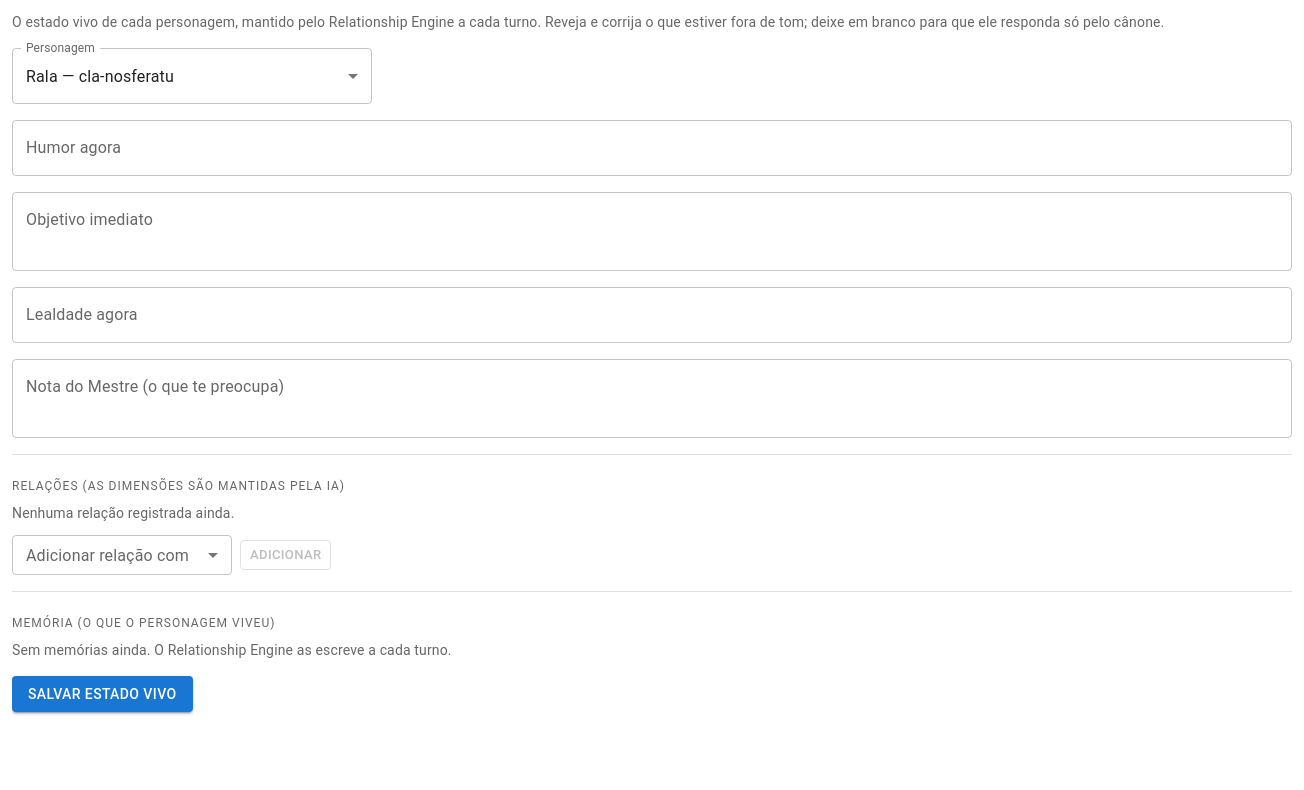
Scenario: AdminLivingTab › mostra a memória e as relações que o Relationship Engine gravaria
Click the dropdown named "Personagem" at (100, 76), box [26, 66, 174, 86]
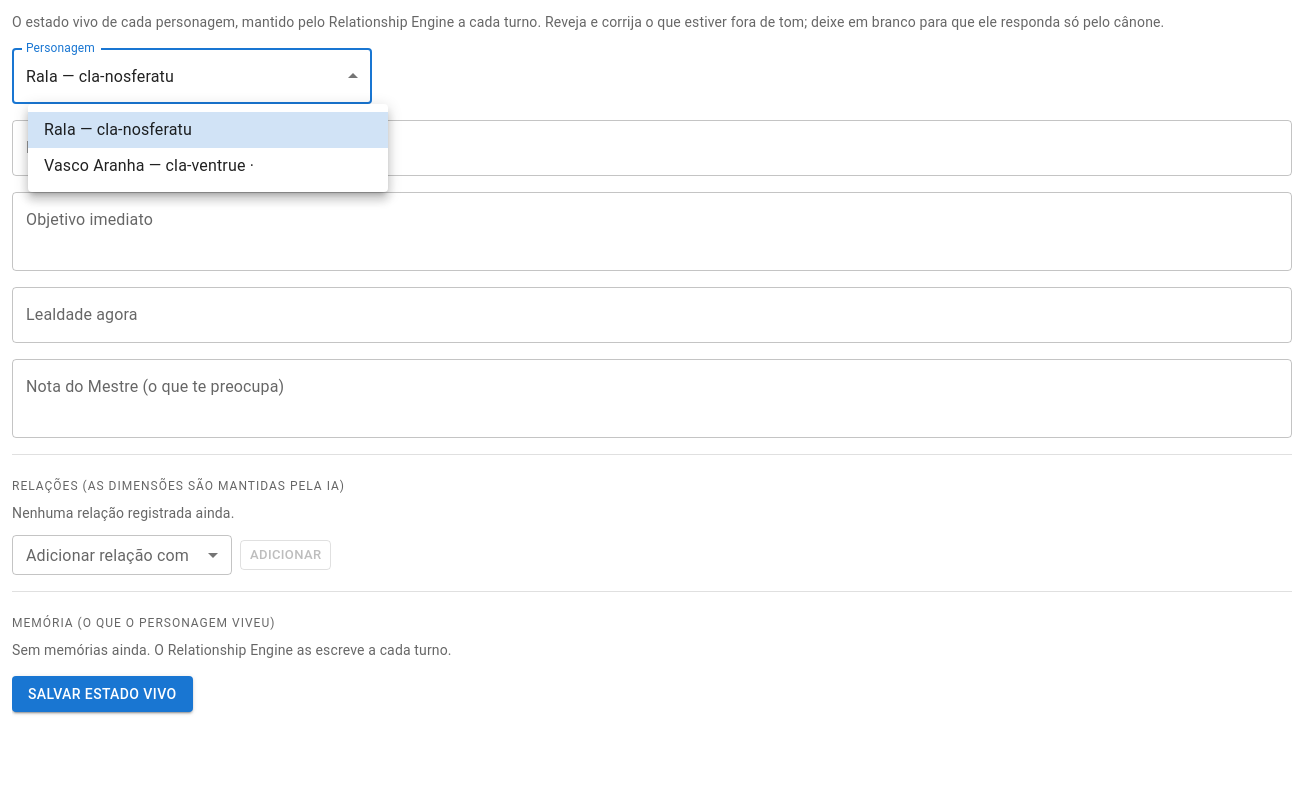
Click the option "Vasco Aranha — cla-ventrue ·" at (149, 166), box [44, 156, 254, 175]
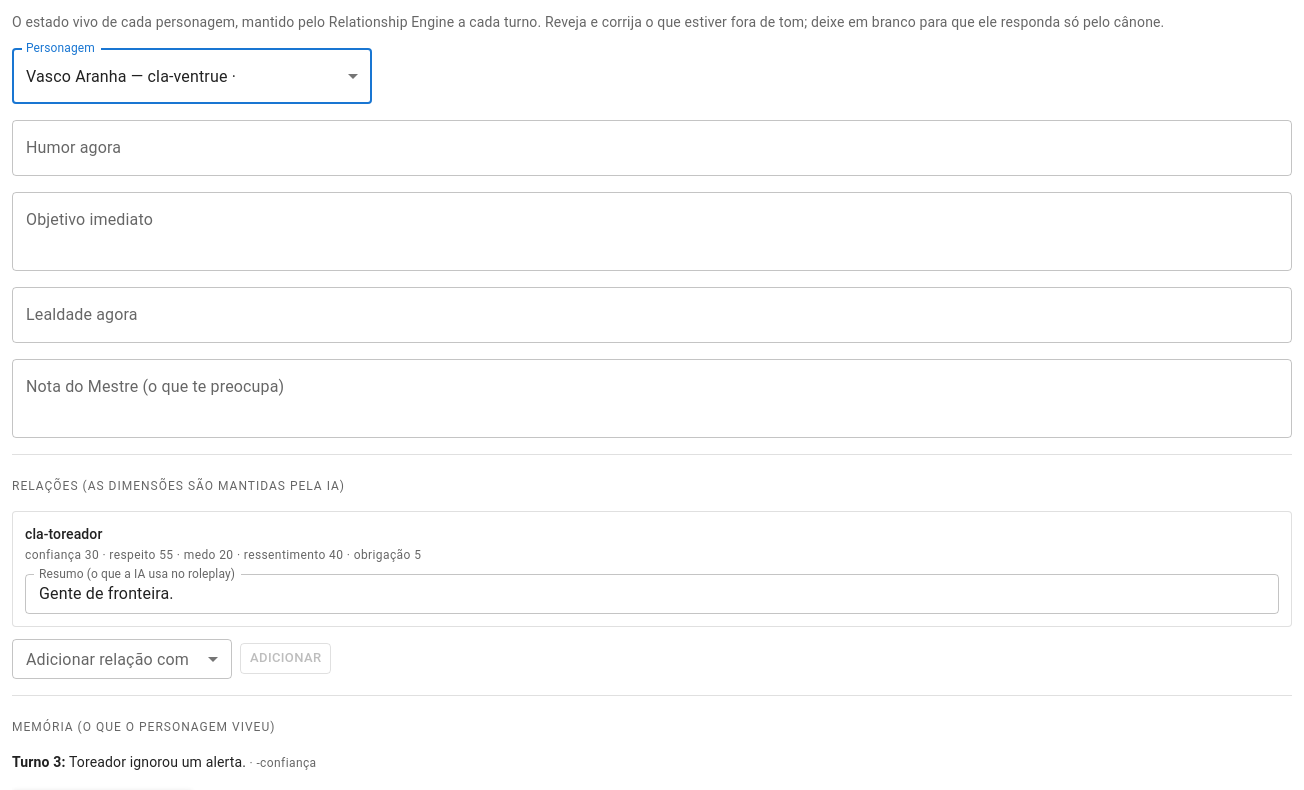
Result: the text "Turno 3: Toreador ignorou um alerta. · -confiança" is shown at [12, 754, 316, 770]
Result: the text "confiança 30" is shown at [25, 548, 421, 562]
